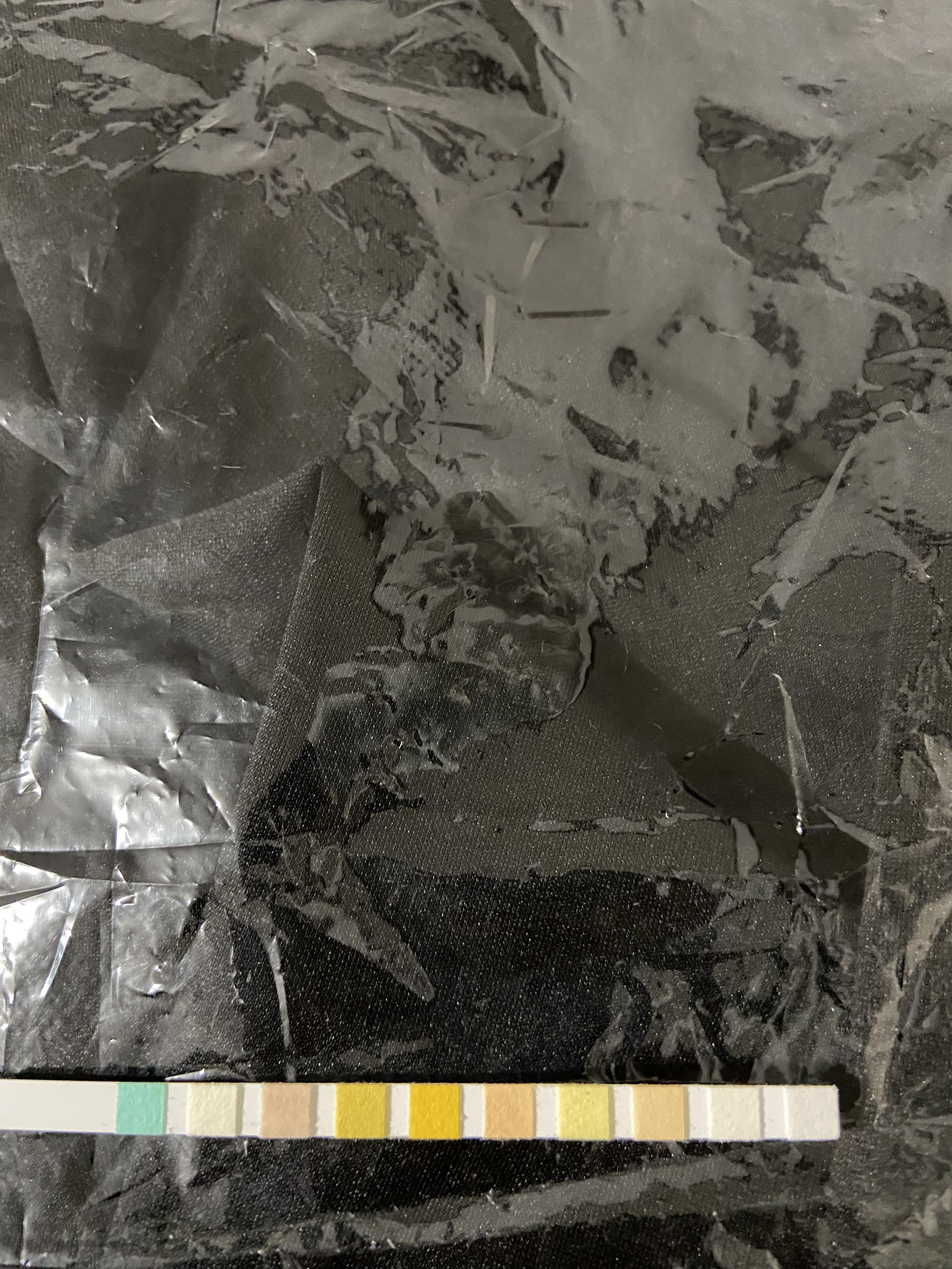Bilirubin: (190, 1083, 235, 1135)
Blood: (410, 1084, 457, 1140)
Glucose: (119, 1083, 164, 1135)
Ketone: (262, 1083, 309, 1138)
Leukocytes: (785, 1087, 838, 1140)
Nitrite: (708, 1088, 760, 1140)
Protein: (557, 1084, 607, 1138)
SpGravity: (338, 1084, 384, 1138)
Urobilinogen: (634, 1085, 684, 1141)
pH: (485, 1083, 535, 1138)
strip: (2, 1080, 841, 1139)
